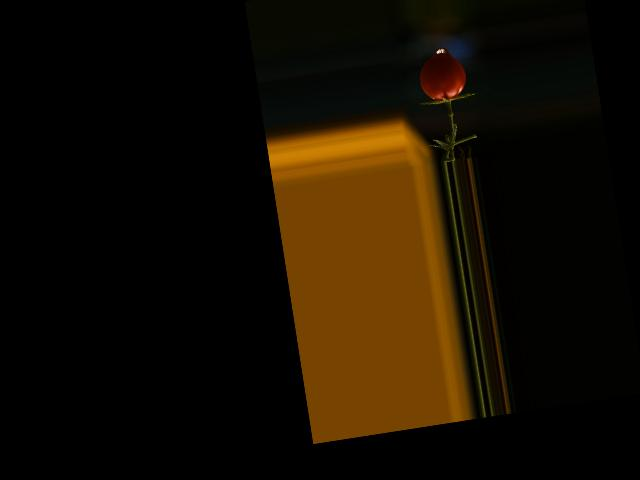tomato: (417, 51, 469, 103)
